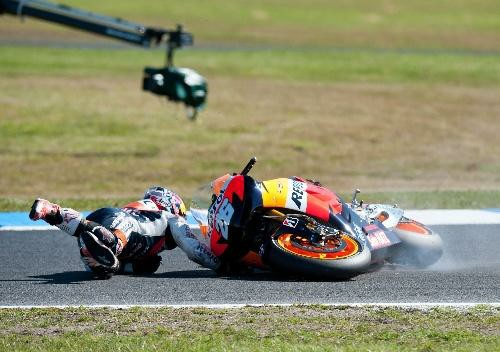fall: (32, 170, 255, 285)
